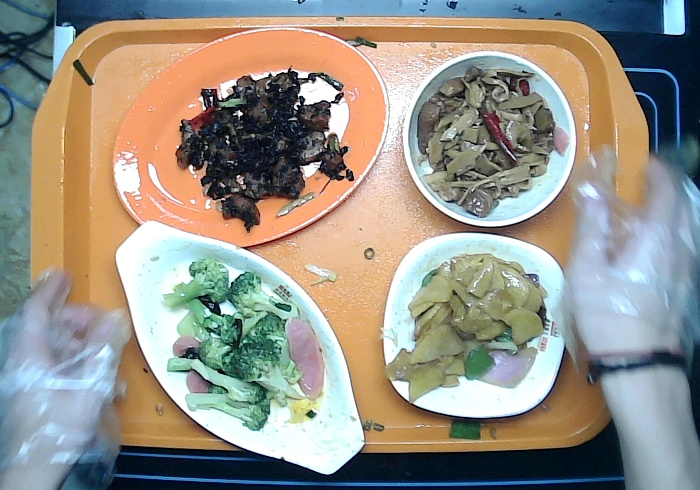NLDX-Bai_Se_Xiao_Fang_Die: (378, 227, 571, 418)
NLDX-Fan_Wan: (399, 50, 581, 231)
NLDX-Ju_Se_Pan: (110, 24, 392, 252)
NLDX-Yu_Pan: (112, 217, 366, 478)
